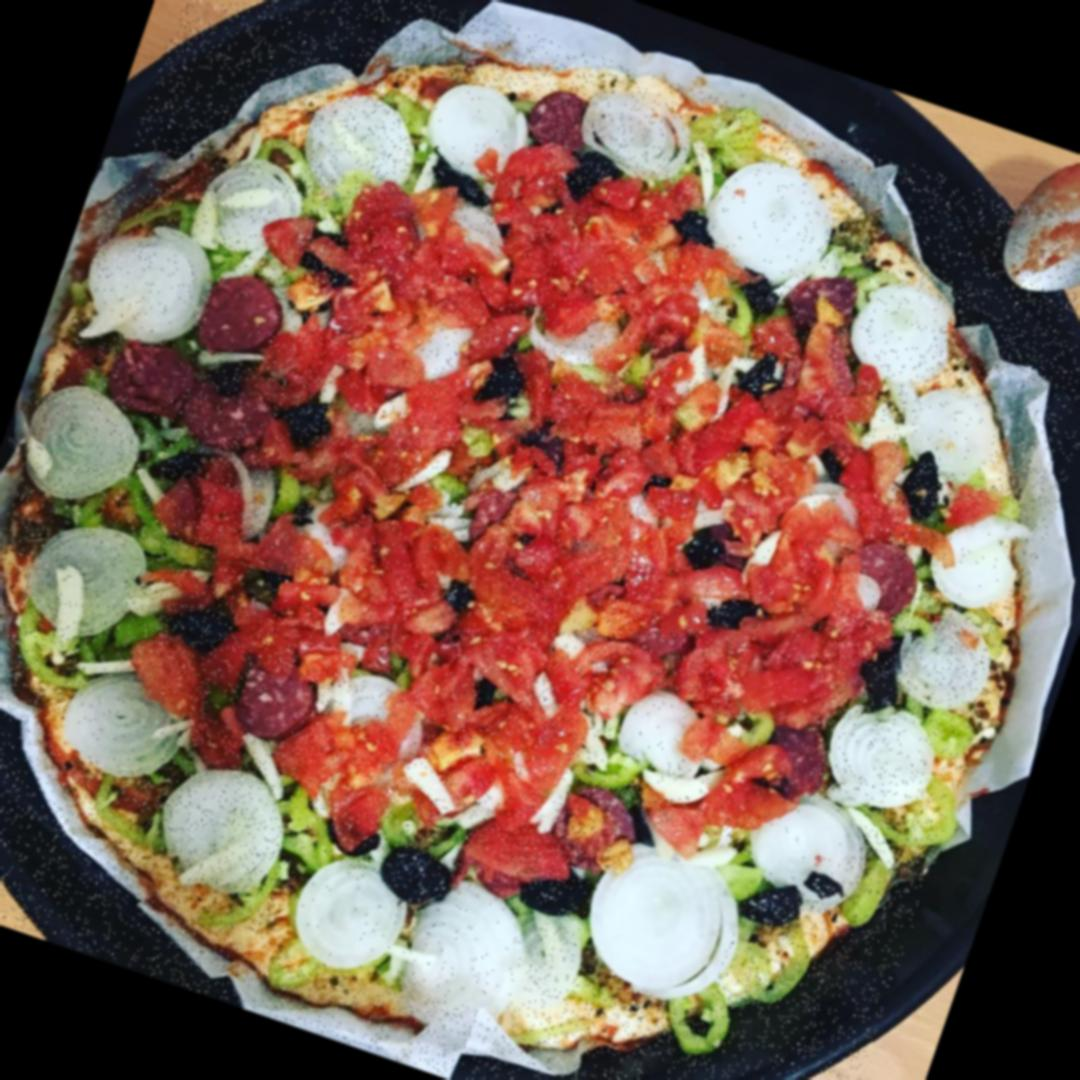Onion: (572, 815, 758, 1014), (138, 758, 306, 914), (389, 868, 549, 1023), (164, 112, 316, 270), (815, 699, 963, 844), (692, 148, 841, 292), (87, 204, 226, 356), (277, 853, 421, 988), (16, 377, 148, 524), (25, 510, 158, 642), (592, 675, 728, 801), (296, 82, 424, 202), (746, 783, 866, 905), (408, 74, 539, 182), (60, 672, 186, 780), (839, 274, 944, 398), (888, 609, 1006, 718), (570, 75, 694, 174), (931, 506, 1030, 622), (607, 685, 715, 788), (330, 676, 437, 766), (908, 392, 1002, 482)
Pepperoni: (104, 330, 217, 428), (197, 271, 284, 368), (230, 662, 313, 750), (845, 540, 932, 622), (182, 380, 267, 461), (556, 786, 636, 864), (772, 741, 838, 807)
Peppers: (488, 340, 820, 631), (229, 458, 528, 718), (646, 373, 893, 682), (292, 202, 540, 498), (452, 598, 647, 840), (523, 193, 740, 370), (700, 654, 830, 828)
Pizza: (0, 0, 1080, 1080)
